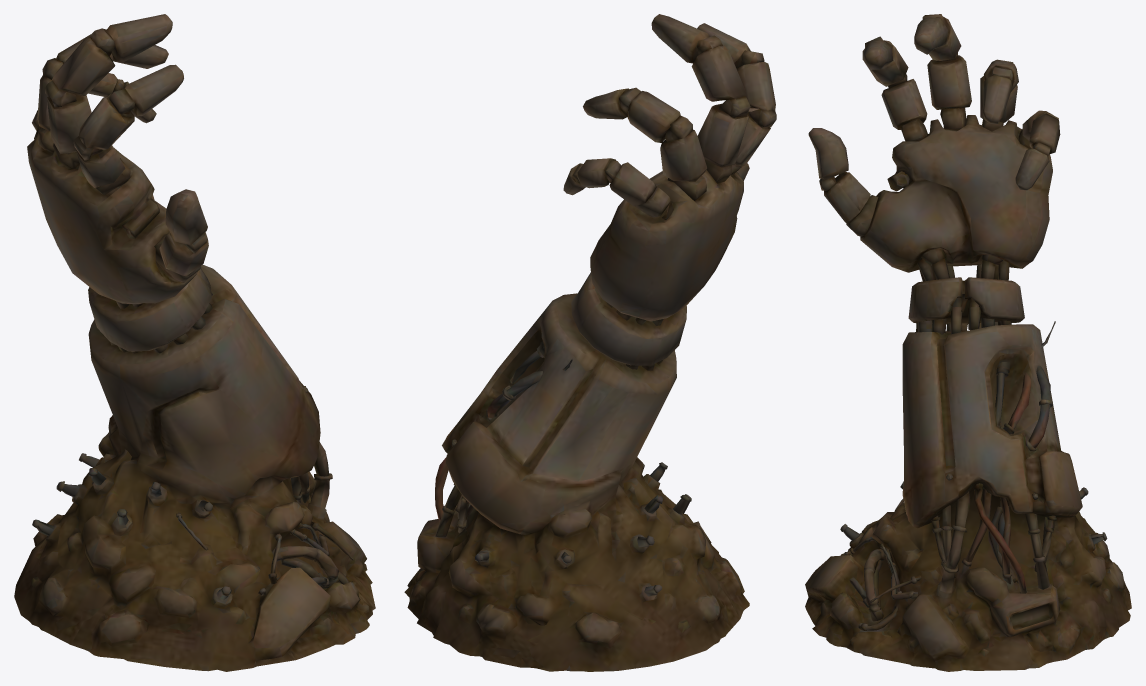
Rendered from buriedMechHand.glb.
3 views of the same model, side by side, from view 1: azimuth 30°, elevation 25°; view 2: azimuth 150°, elevation 25°; view 3: azimuth 270°, elevation 25° (orthographic). The views are drawn at different scales.
Parts seen in each view (by area): view 1: tripo_node_3eeb2a1c-1189-4471-bbda-7626ec3acb2a; view 2: tripo_node_3eeb2a1c-1189-4471-bbda-7626ec3acb2a; view 3: tripo_node_3eeb2a1c-1189-4471-bbda-7626ec3acb2a.
Part boxes in pixels (box(x1,y1,x2,y2)): tripo_node_3eeb2a1c-1189-4471-bbda-7626ec3acb2a: box(14, 14, 375, 671); tripo_node_3eeb2a1c-1189-4471-bbda-7626ec3acb2a: box(404, 14, 776, 671); tripo_node_3eeb2a1c-1189-4471-bbda-7626ec3acb2a: box(805, 14, 1131, 671).
Bounding box in the file's own units: 0.5449 × 0.998 × 0.543.
1 material, 1 textured.
